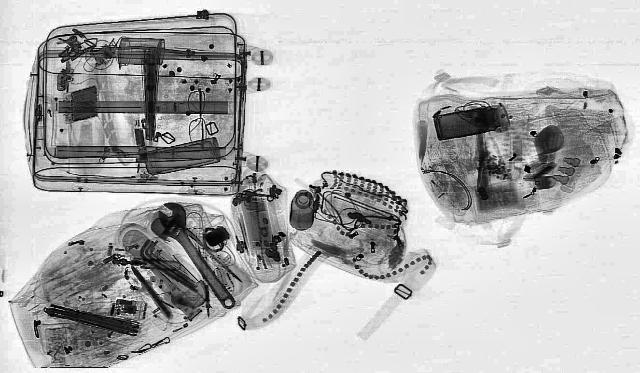Wrench: (134, 198, 256, 312)
